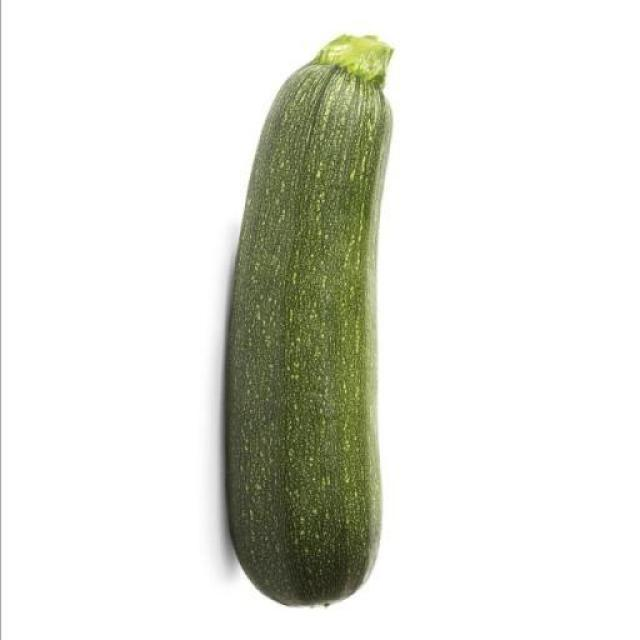Zucchini: (222, 26, 394, 634)
